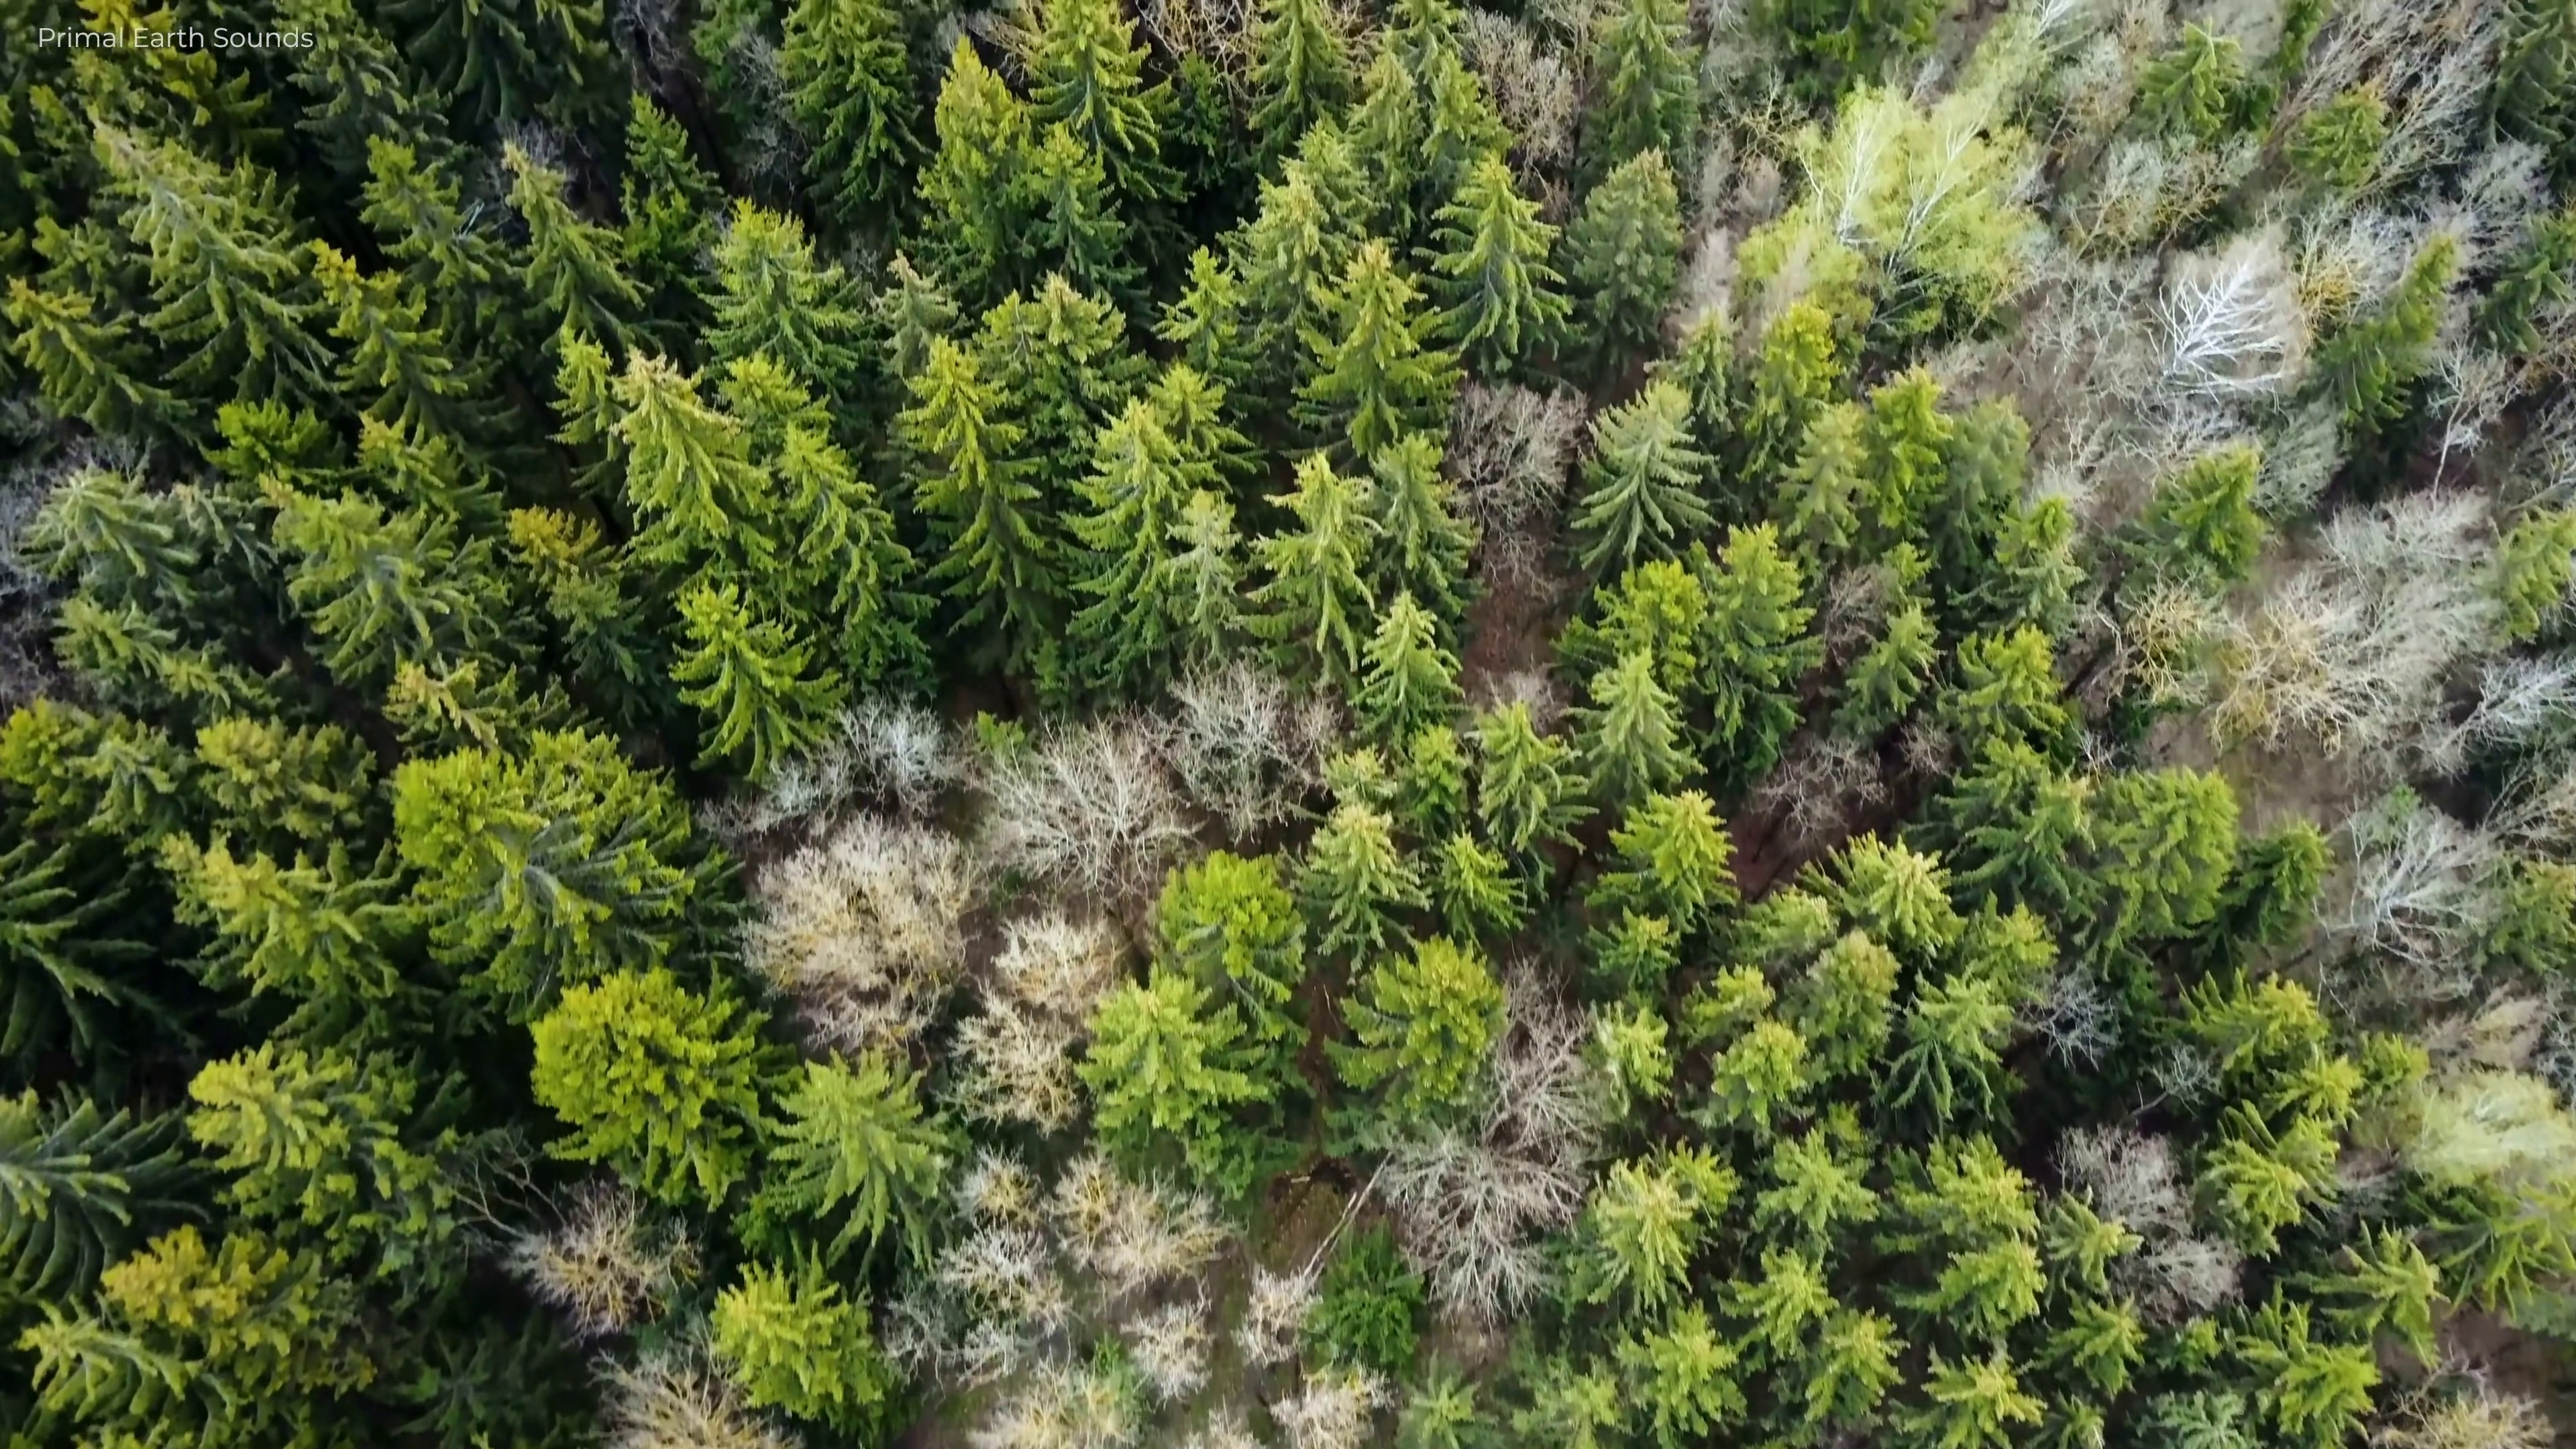tree: (391, 759, 685, 961), (533, 980, 766, 1201), (92, 133, 299, 366), (893, 329, 1033, 648), (173, 849, 414, 1023), (780, 433, 929, 697), (106, 1237, 363, 1387), (1083, 985, 1242, 1201), (1323, 941, 1507, 1127), (180, 1054, 421, 1196), (260, 481, 451, 658), (706, 200, 867, 409), (782, 1058, 961, 1240), (1143, 840, 1313, 1030), (1076, 410, 1182, 690), (679, 582, 832, 771), (488, 140, 633, 338), (2091, 771, 2252, 948), (1421, 156, 1562, 354), (2316, 239, 2472, 416), (292, 4, 462, 165), (2, 1083, 156, 1258), (715, 1265, 885, 1422), (12, 272, 172, 435), (308, 237, 456, 409), (1263, 460, 1376, 672), (780, 2, 909, 188), (1698, 524, 1806, 740), (1568, 156, 1698, 329), (934, 46, 1030, 281), (610, 96, 727, 285), (1311, 239, 1433, 419), (196, 715, 370, 840), (504, 501, 633, 667), (1845, 370, 1966, 543), (1543, 1161, 1690, 1295), (2268, 69, 2399, 219), (1617, 1295, 1746, 1447), (1585, 386, 1702, 550), (1373, 428, 1484, 598), (1888, 1139, 2040, 1261), (2176, 1118, 2337, 1233), (1828, 832, 1973, 955), (1589, 2, 1690, 172), (2203, 828, 2327, 966), (16, 704, 168, 816), (1617, 786, 1741, 916), (2151, 441, 2277, 566), (1789, 938, 1905, 1072), (356, 405, 487, 524), (1463, 699, 1580, 832), (2127, 23, 2250, 147), (1824, 612, 1950, 734), (1352, 598, 1463, 734), (1969, 499, 2086, 628), (1950, 625, 2074, 743), (1773, 398, 1874, 543), (1237, 180, 1323, 349), (1585, 648, 1686, 789), (2495, 487, 2576, 662), (1902, 975, 2022, 1090), (1414, 53, 1520, 182), (1992, 777, 2114, 888), (53, 591, 168, 708), (1589, 561, 1706, 672), (1913, 1237, 2049, 1332), (1033, 122, 1115, 280), (2316, 1244, 2454, 1336), (1161, 249, 1246, 398), (34, 1304, 156, 1405), (1175, 488, 1246, 660), (1661, 310, 1752, 435), (1752, 1132, 1874, 1221), (1723, 1256, 1838, 1350), (2190, 982, 2319, 1065), (1426, 832, 1527, 938), (1263, 2, 1341, 138), (1806, 1320, 1909, 1422), (2284, 1338, 2385, 1440), (1944, 740, 2059, 828), (2496, 851, 2576, 977), (1589, 906, 1690, 1000), (2059, 1299, 2153, 1380)
